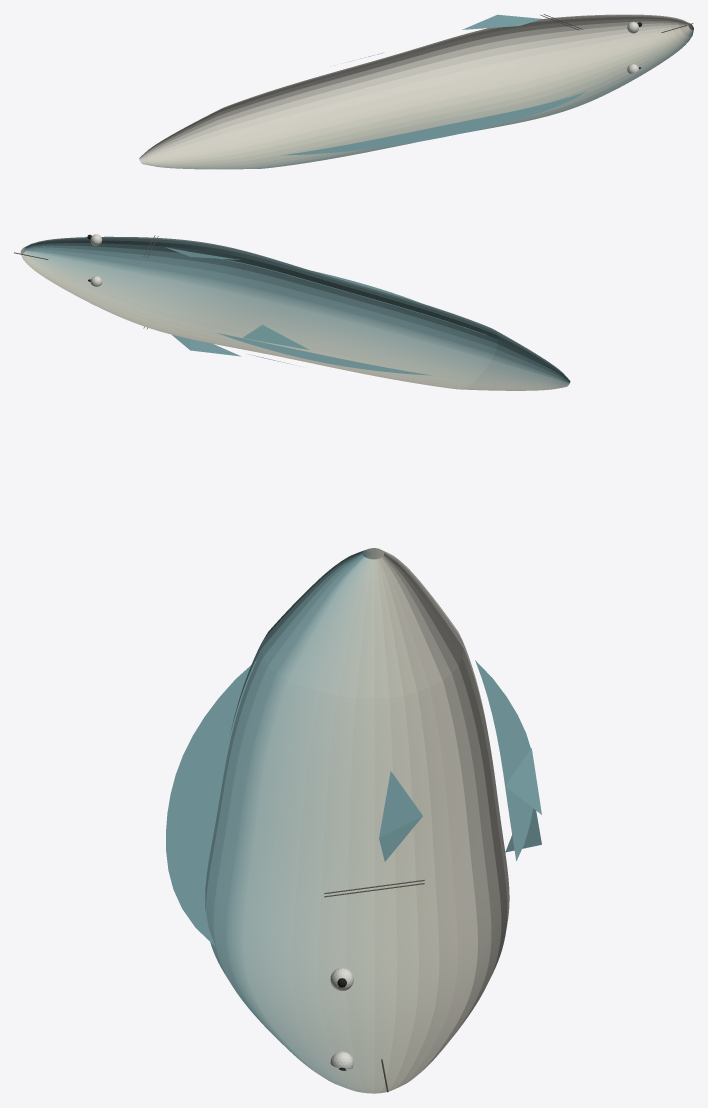
File: bluefish_realistic_generated.glb
3 views of the same model, one above another, from view 1: azimuth 30°, elevation 25°; view 2: azimuth 150°, elevation 25°; view 3: azimuth 270°, elevation 25° (orthographic). The views are drawn at different scales.
Visible parts, largest first — view 1: world; view 2: world; view 3: world.
Boxes of the visible parts, x1,y1,x2,y2 form: world: (139,14,693,169); world: (14,234,570,390); world: (166,548,541,1093).
Bounding box in the file's own units: 3.45 × 0.4911 × 0.8677.
